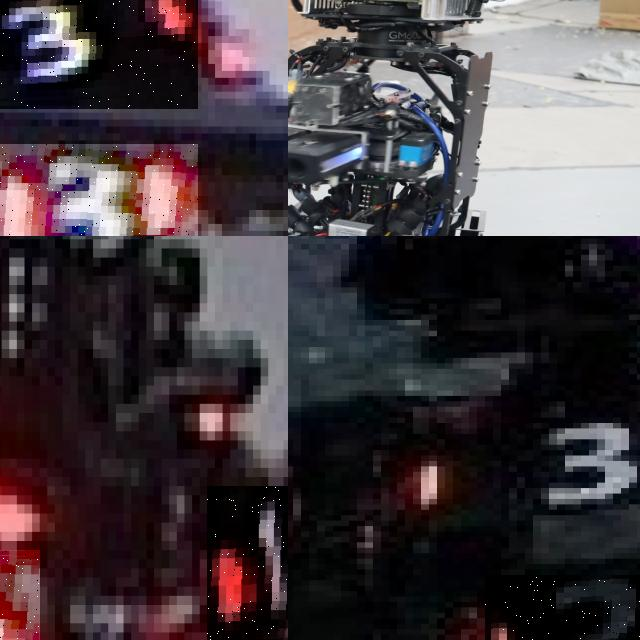R1: (207, 486, 288, 640)
R3: (0, 0, 198, 109), (0, 144, 198, 236), (485, 574, 640, 640)
